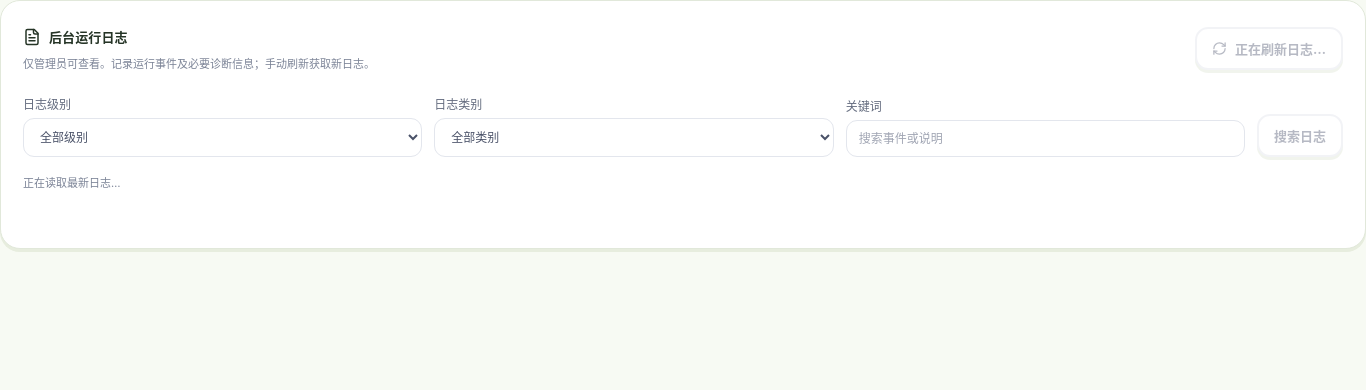
Test case: does not let a late old filter response replace the current filter results
The width and height of the screenshot is (1366, 390).
Select "错误" in the dropdown labelled "日志级别" at [223, 137], box [23,118,422,157]
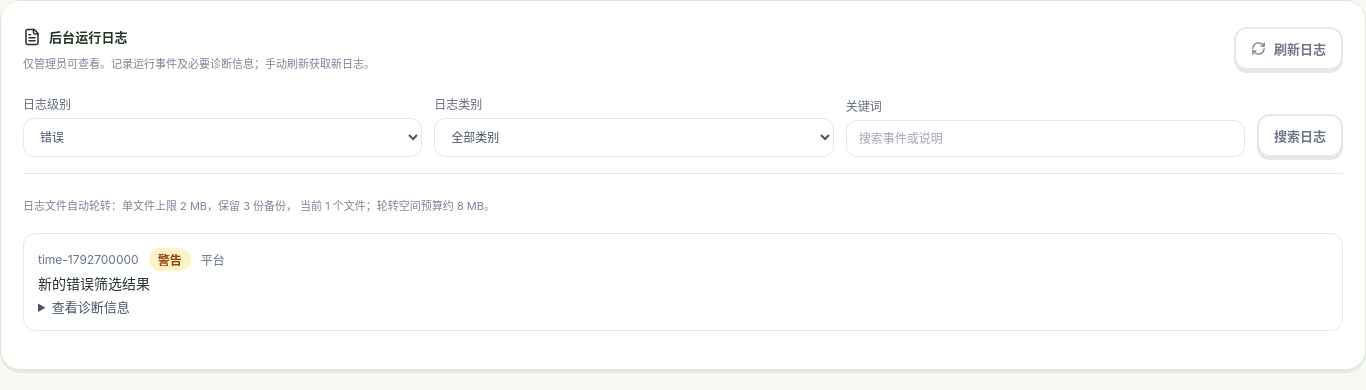
expect the text "新的错误筛选结果" is shown: met, box [38,275,150,292]
